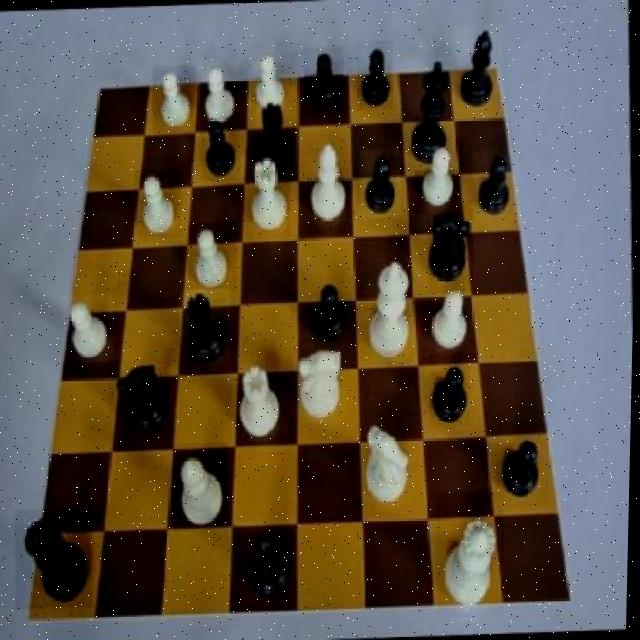bishop: (242, 517, 300, 604), (453, 23, 506, 117)
black-bishop: (405, 57, 462, 172)
black-king: (108, 357, 174, 438), (426, 198, 478, 294)
black-knight: (497, 420, 554, 507), (304, 274, 357, 348), (472, 148, 523, 223), (430, 350, 475, 428), (303, 48, 347, 119), (360, 148, 404, 218), (356, 40, 396, 111), (200, 115, 241, 180)
black-pawn: (15, 508, 97, 610)
black-queen: (180, 288, 235, 374), (249, 91, 301, 180)
black-rook: (173, 443, 234, 531), (304, 134, 353, 234)
white-bishop: (362, 250, 426, 366)
white-king: (360, 411, 420, 508), (292, 331, 350, 426)
white-knight: (414, 138, 465, 214), (187, 221, 239, 294), (63, 294, 117, 364), (425, 283, 475, 357), (134, 169, 185, 239), (247, 46, 295, 120), (152, 64, 199, 134), (197, 58, 241, 131)
white-pawn: (435, 490, 510, 618)
white-queen: (231, 352, 292, 445), (244, 146, 294, 240)
